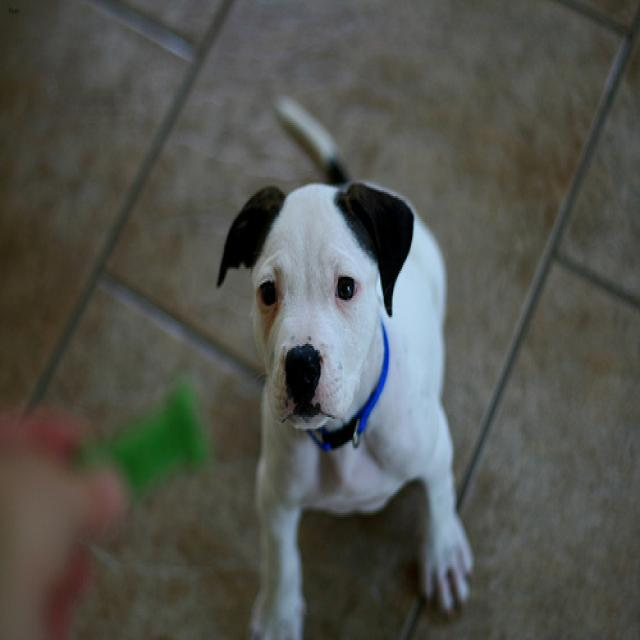dog-american_bulldog: (207, 83, 480, 636)
